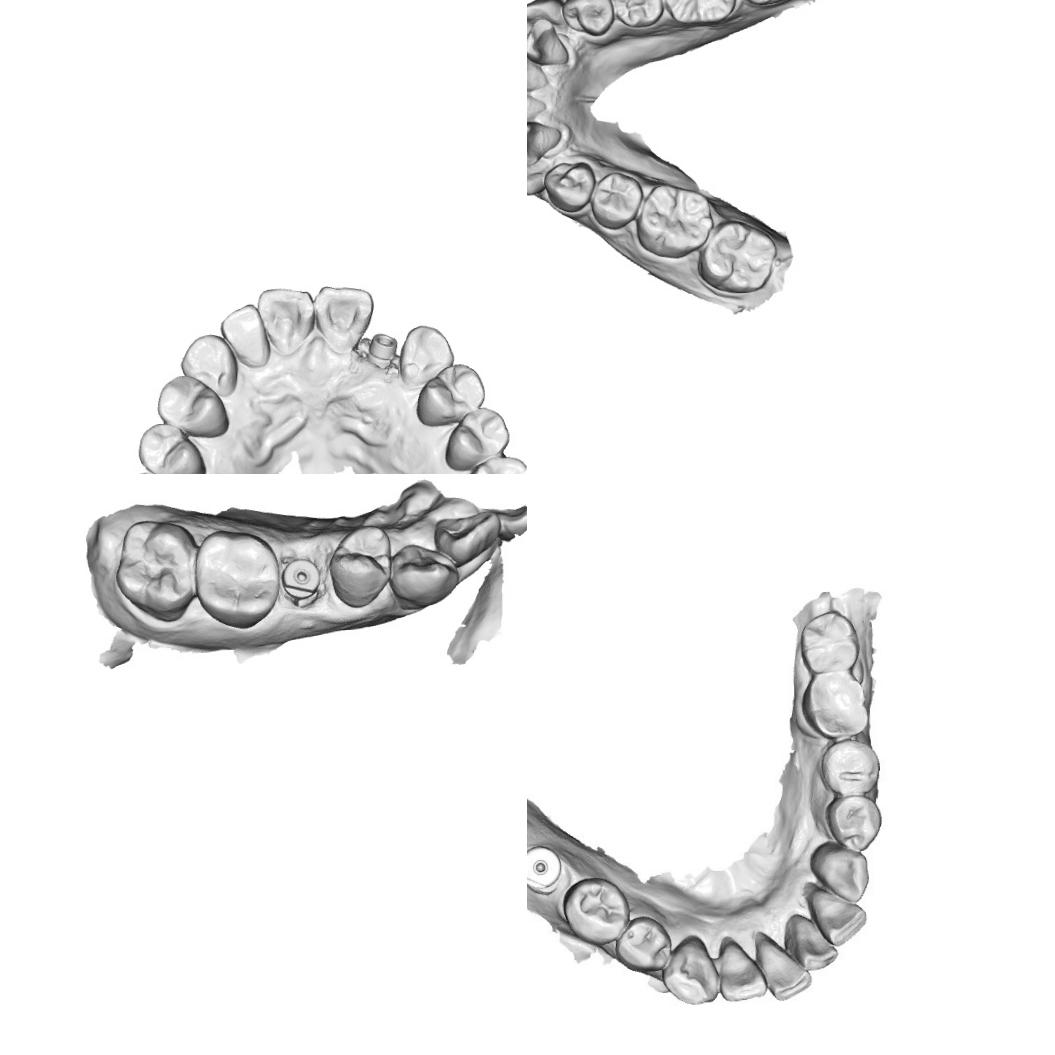canine: (389, 540, 461, 606), (662, 934, 719, 1007), (178, 333, 240, 398), (397, 321, 455, 386), (810, 842, 870, 902), (527, 0, 569, 37), (527, 148, 554, 197)
implant: (527, 842, 565, 895), (278, 557, 322, 601), (367, 330, 399, 366)
incisor: (310, 282, 378, 361), (256, 285, 316, 368), (754, 930, 812, 1000), (219, 302, 274, 373), (432, 509, 500, 566), (808, 883, 866, 948), (716, 934, 766, 1004), (790, 918, 836, 974), (527, 16, 570, 68), (527, 118, 563, 168), (527, 48, 551, 93), (527, 85, 548, 129)
molar: (192, 526, 282, 630), (112, 518, 198, 626), (632, 179, 716, 262), (694, 216, 780, 296), (808, 668, 870, 737), (802, 611, 861, 672), (659, 0, 739, 28), (450, 452, 527, 474)
premolar: (328, 522, 396, 610), (413, 360, 488, 432), (156, 373, 230, 439), (442, 405, 512, 472), (562, 878, 626, 944), (135, 418, 210, 474), (614, 911, 672, 975), (588, 169, 646, 232), (828, 798, 888, 854), (824, 738, 880, 798), (541, 160, 597, 214), (558, 0, 615, 39), (609, 0, 664, 30)
